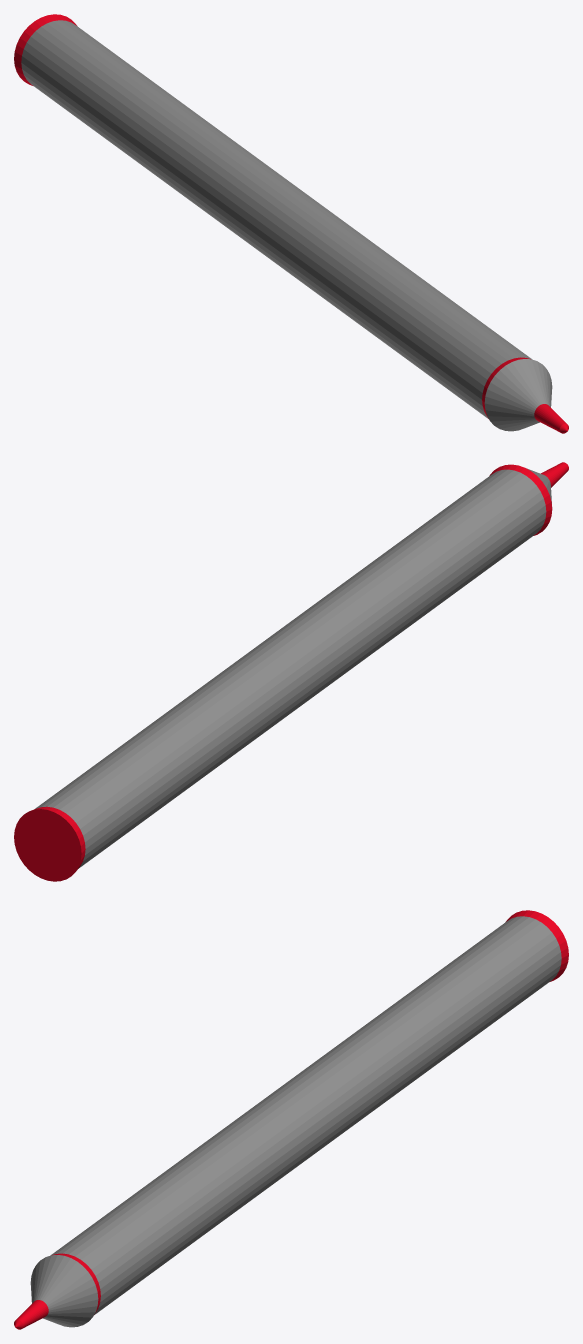
3 views of the same model, one above another, from view 1: azimuth 30°, elevation 25°; view 2: azimuth 150°, elevation 25°; view 3: azimuth 330°, elevation 25° (orthographic).
Parts seen in each view (by area): view 1: Pen; view 2: Pen; view 3: Pen.
Boxes of the visible parts, x1=… form: Pen: x1=14, y1=14, x2=568, y2=433; Pen: x1=14, y1=462, x2=568, y2=881; Pen: x1=14, y1=910, x2=568, y2=1329.
Size of the model in its own units: 0.6 by 0.6 by 7.99.
